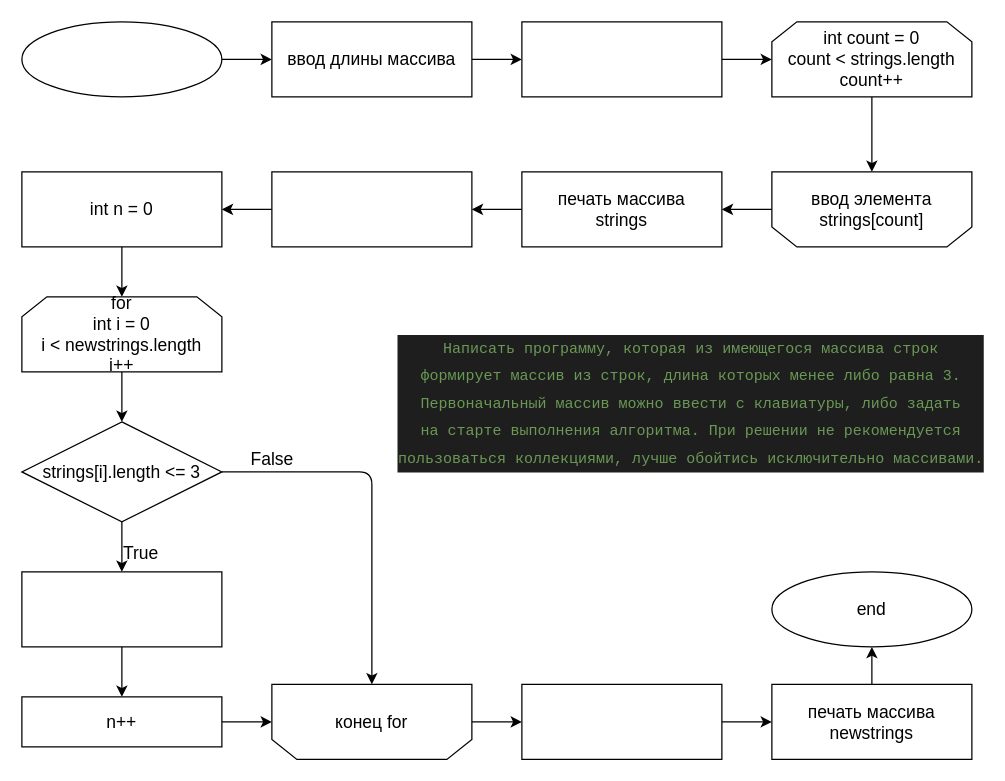
The diagram is 1005 pixels wide and 781 high, and some of its shapes have lost their labels. The shapes that lost their labels are listed below. From the top down, each one's centre as x and y in pixels, then its label:
the point at 121,59: start
the point at 621,59: создаём массив строк
the point at 371,209: создание нового массива newstrings длиной lehgth
the point at 121,609: newstrings[n] = strings[i]
the point at 621,721: уменьшаем длину массива newstrings до значения n+1
